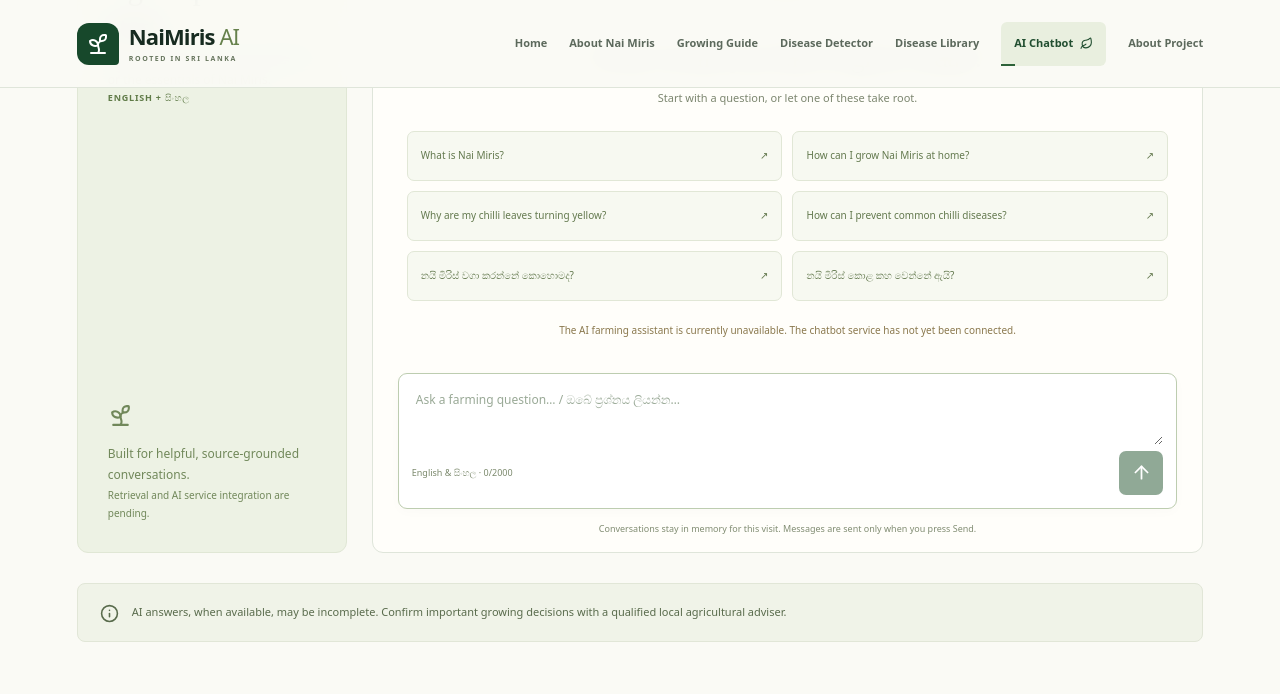
Test: AI chat interface › blocks blank messages and retries without duplicating the user message
The image size is (1280, 694).
(page scrolled)
Expected: the button named "Send message" is disabled, [1119,450,1163,494]
Type "Why are leaves yellow?" into the text box at {"x": 788, "y": 416}, box [412,386,1163,444]
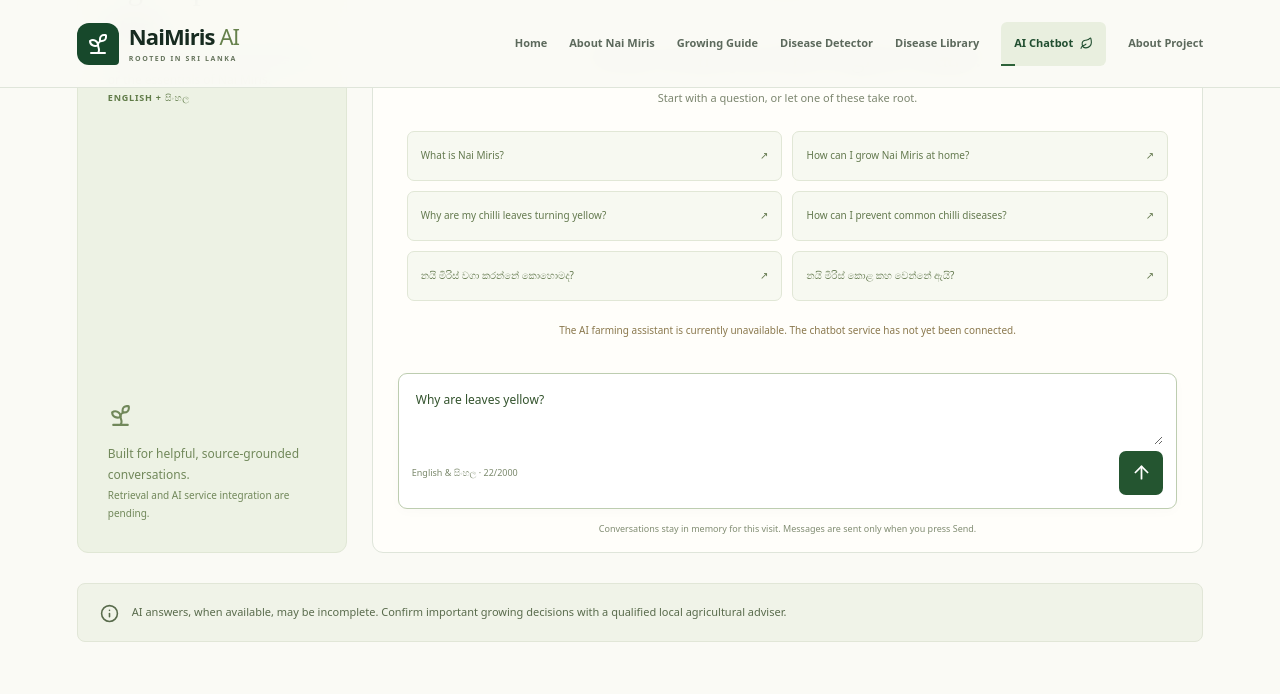
Press Enter in the text box, box [412,386,1163,444]
(page scrolled)
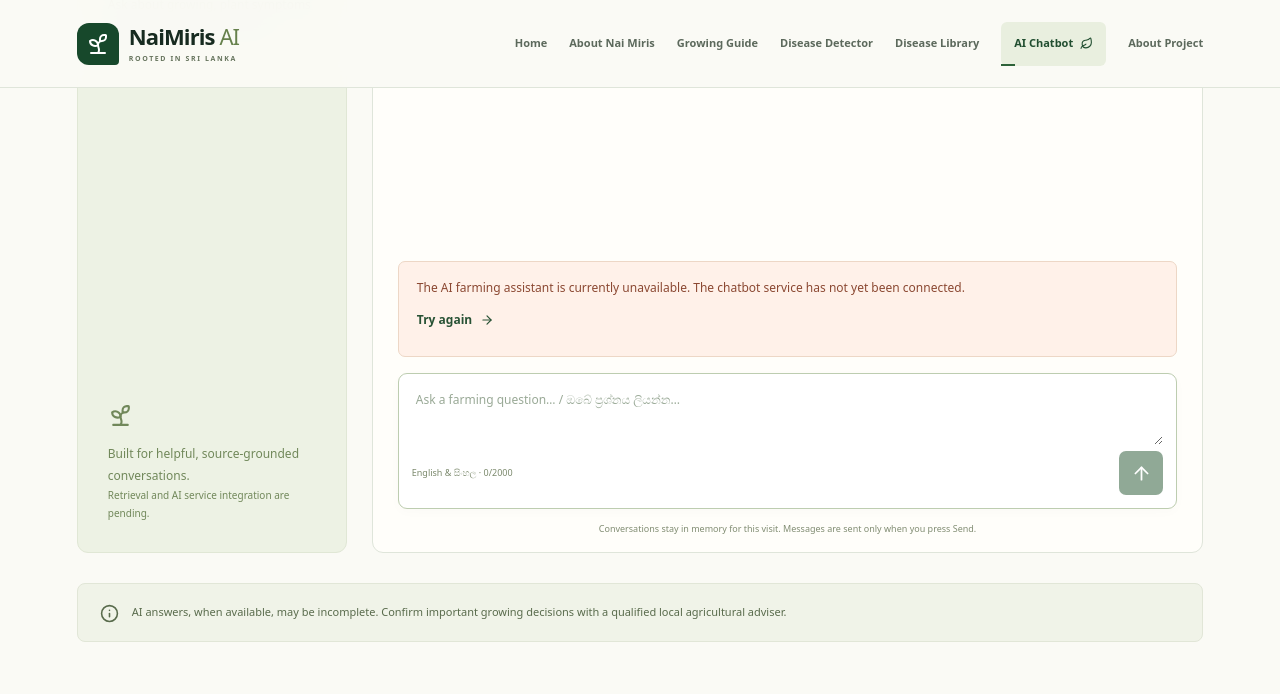
Result: the message is shown at [398,262,1177,357]
Click the button "Try again" at {"x": 456, "y": 320}, box [417,299,494,341]
(page scrolled)
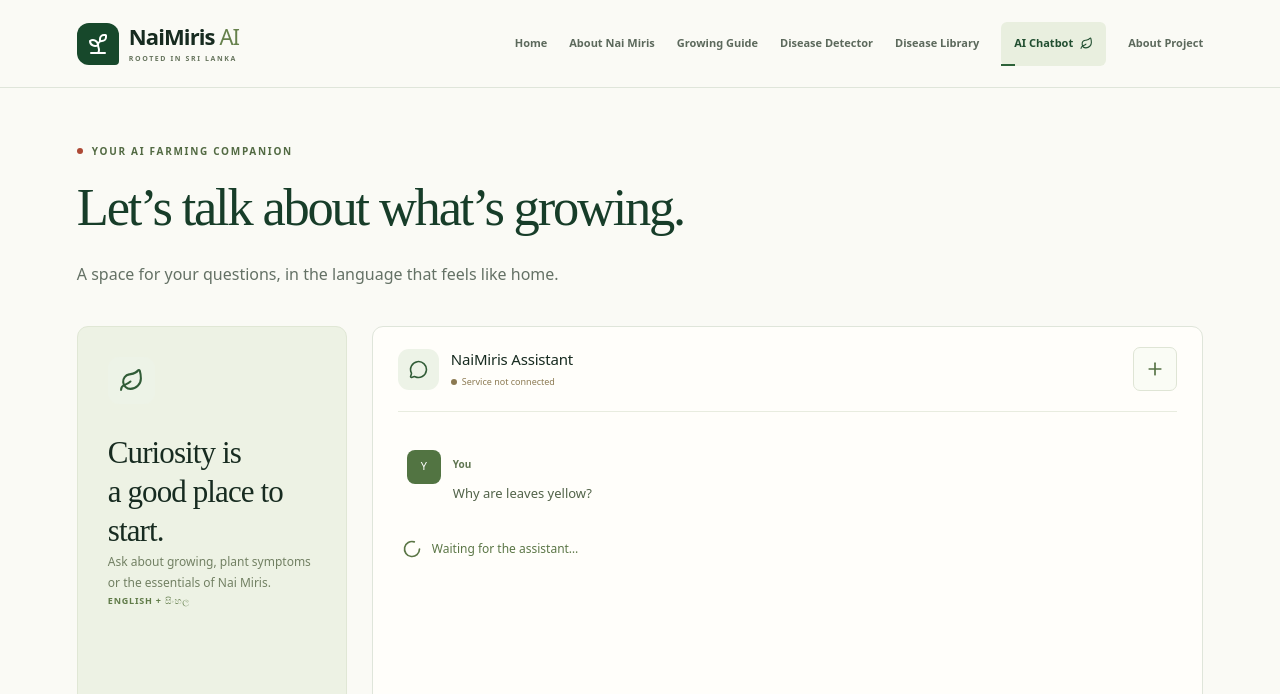
Result: the text "Why are leaves yellow?" is shown once at [453,482,592,506]
Click the button named "New conversation" at {"x": 1155, "y": 370}, box [1133,348,1177,392]
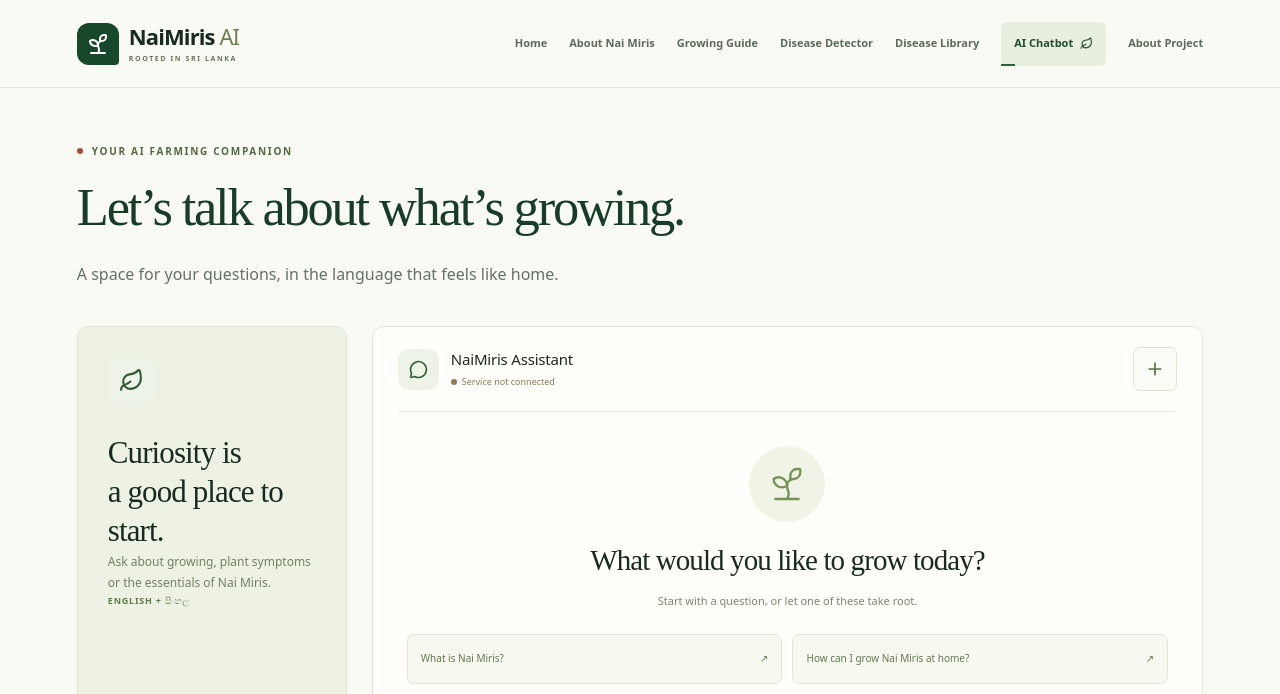
Result: the heading "What would you like to grow today?" is shown at [590,544,985,576]
